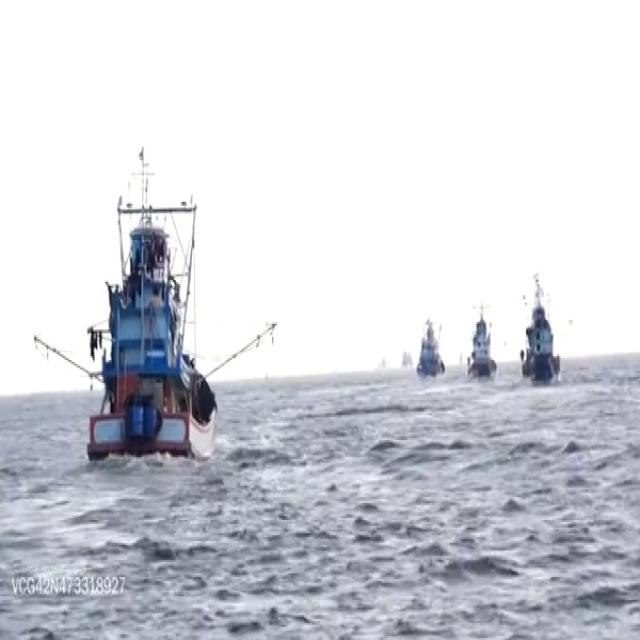fishing boat: (81, 146, 218, 457), (519, 274, 560, 380), (466, 304, 498, 378), (415, 314, 445, 378)
